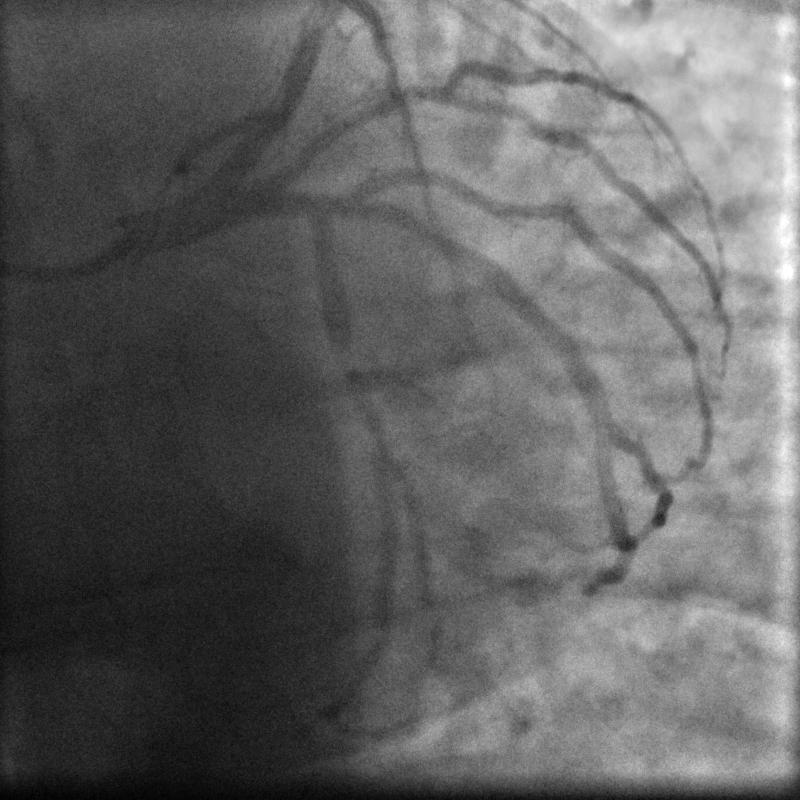Stenosis: (339, 352, 400, 455)
